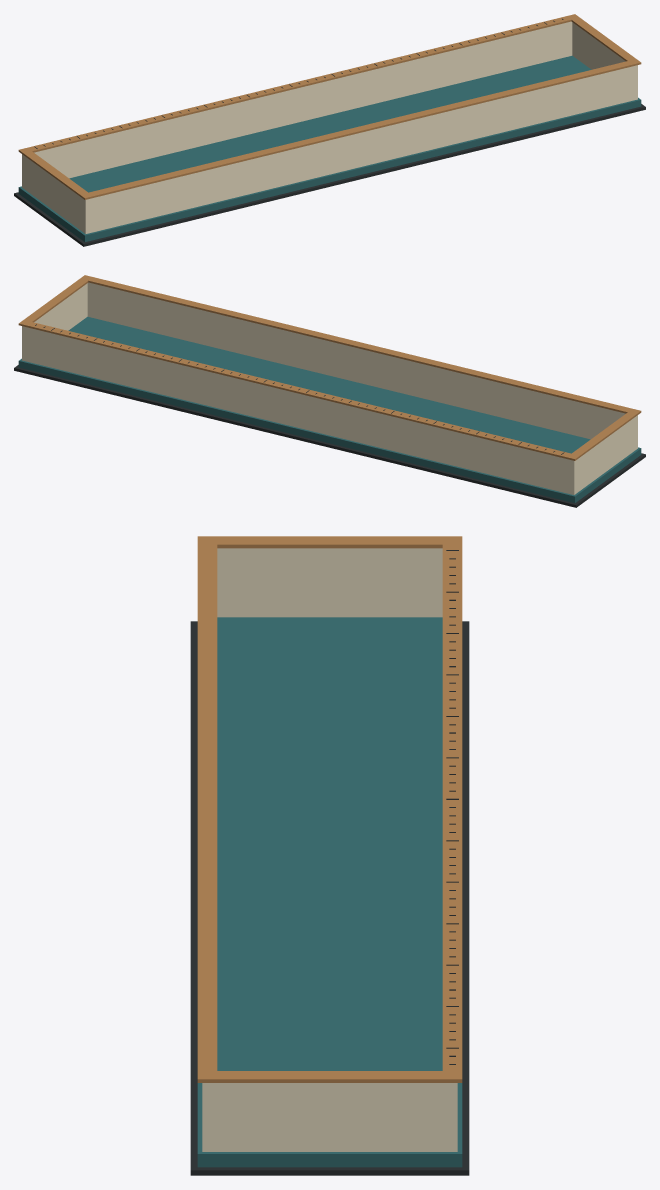
Rendered from test-basin.glb.
3 views of the same model, one above another, from view 1: azimuth 30°, elevation 25°; view 2: azimuth 150°, elevation 25°; view 3: azimuth 270°, elevation 25° (orthographic). The views are drawn at different scales.
Parts seen in each view (by area): view 1: Long basin wall.001, Long basin wall, Basin floor, Long coping.001, Long coping, Basin plinth, End basin wall, End basin wall.001, End coping, End coping.001; view 2: Long basin wall, Long basin wall.001, Basin floor, Long coping, Long coping.001, Basin plinth, End basin wall, End basin wall.001, End coping, End coping.001; view 3: Basin floor, End basin wall.001, End basin wall, Long coping.001, Long coping, Basin plinth, End coping, End coping.001.
Boxes of the visible parts, <box> form: Long basin wall.001: <box>83,65,637,233</box>; Long basin wall: <box>22,21,572,188</box>; Basin floor: <box>18,55,641,241</box>; Long coping.001: <box>80,59,641,199</box>; Long coping: <box>18,14,579,154</box>; Basin plinth: <box>14,104,645,246</box>; End basin wall: <box>24,156,83,231</box>; End basin wall.001: <box>572,22,625,69</box>; End coping: <box>23,151,87,195</box>; End coping.001: <box>571,17,635,61</box>; Long basin wall: <box>22,326,576,494</box>; Long basin wall.001: <box>87,282,637,449</box>; Basin floor: <box>18,316,641,502</box>; Long coping: <box>18,320,579,460</box>; Long coping.001: <box>80,275,641,415</box>; Basin plinth: <box>14,365,645,507</box>; End basin wall: <box>576,417,635,492</box>; End basin wall.001: <box>34,283,87,330</box>; End coping: <box>572,412,636,456</box>; End coping.001: <box>24,278,88,322</box>; Basin floor: <box>197,617,462,1167</box>; End basin wall.001: <box>212,1083,447,1151</box>; End basin wall: <box>217,548,442,617</box>; Long coping.001: <box>197,536,217,1082</box>; Long coping: <box>442,536,462,1082</box>; Basin plinth: <box>190,621,469,1175</box>; End coping: <box>217,536,442,548</box>; End coping.001: <box>217,1071,442,1082</box>.
Bounding box in the file's own units: 13.24 × 1.06 × 2.84.
